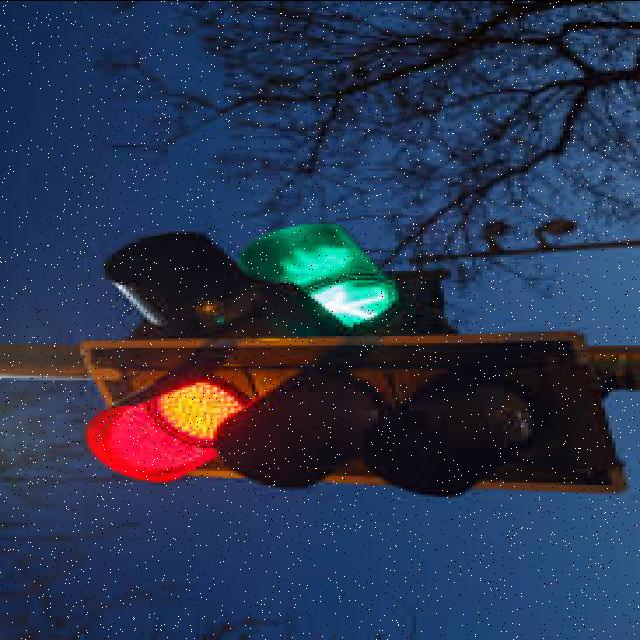green: (114, 236, 435, 339)
red: (97, 354, 589, 486)
